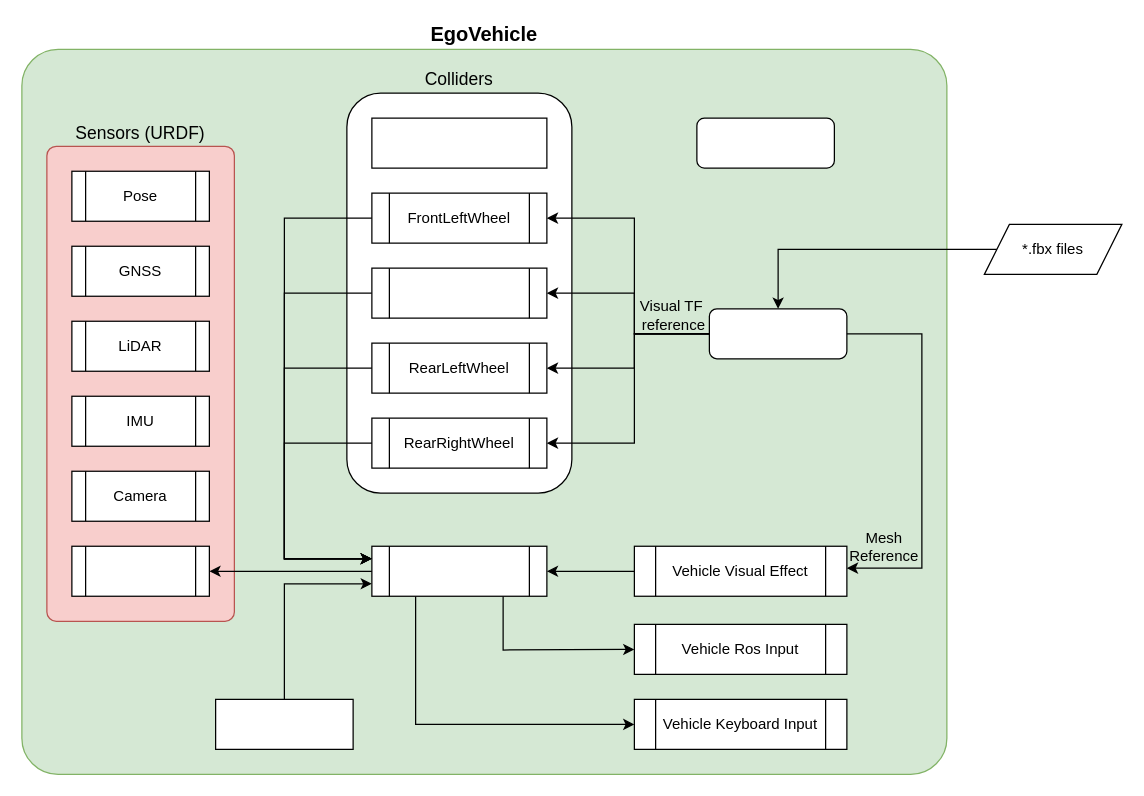
This 1144x796 diagram has some shape labels left out. Here are the shapes that lost their labels. From the top down, the centre of each, then its label:
the point at 459,142: BodyCollider
the point at 765,142: Reflection Probe
the point at 459,292: FrontRightWheel
the point at 777,333: Models
the point at 140,570: Vehicle Status
the point at 459,570: Vehicle
the point at 283,723: CoM
